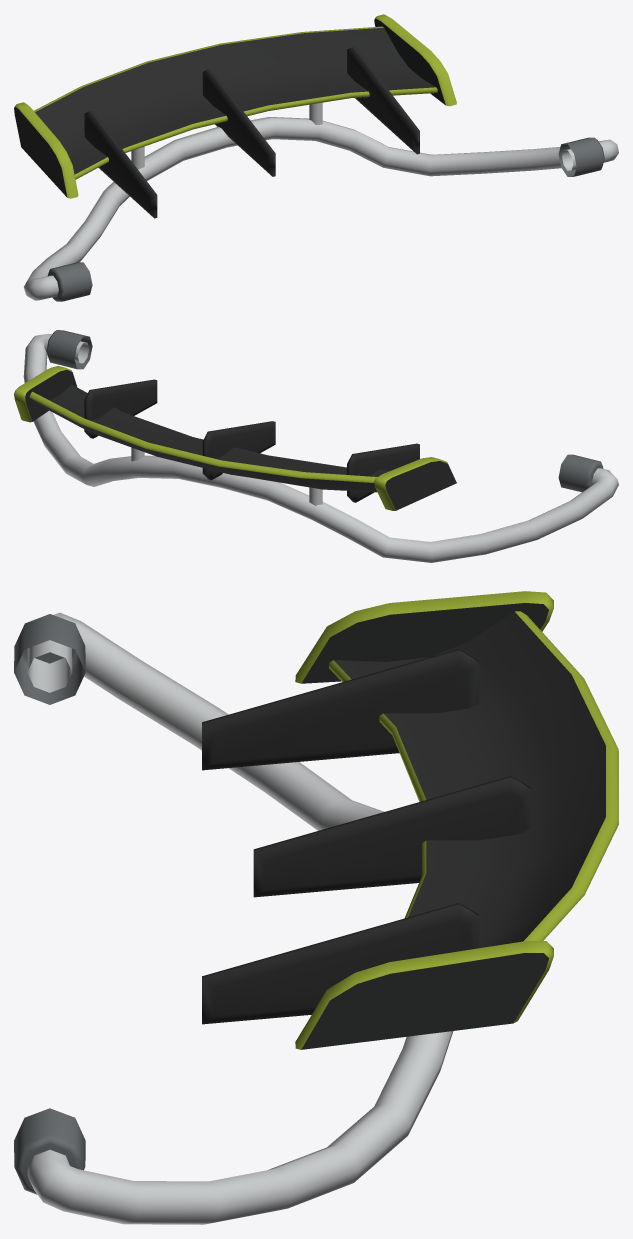
File: Car_15_RearBumper_Cool.fbx
The picture shows the model from 3 angles, top to bottom: view 1: azimuth 30°, elevation 25°; view 2: azimuth 150°, elevation 25°; view 3: azimuth 270°, elevation 25°; orthographic projection. The views are drawn at different scales.
Visible parts, largest first — view 1: Car_15_RearBumper_Cool; view 2: Car_15_RearBumper_Cool; view 3: Car_15_RearBumper_Cool.
Part boxes in pixels (x1=…): Car_15_RearBumper_Cool: x1=14, y1=14, x2=618, y2=301; Car_15_RearBumper_Cool: x1=14, y1=330, x2=618, y2=562; Car_15_RearBumper_Cool: x1=14, y1=591, x2=618, y2=1224.
Bounding box in the file's own units: 221 × 99.65 × 44.16.
